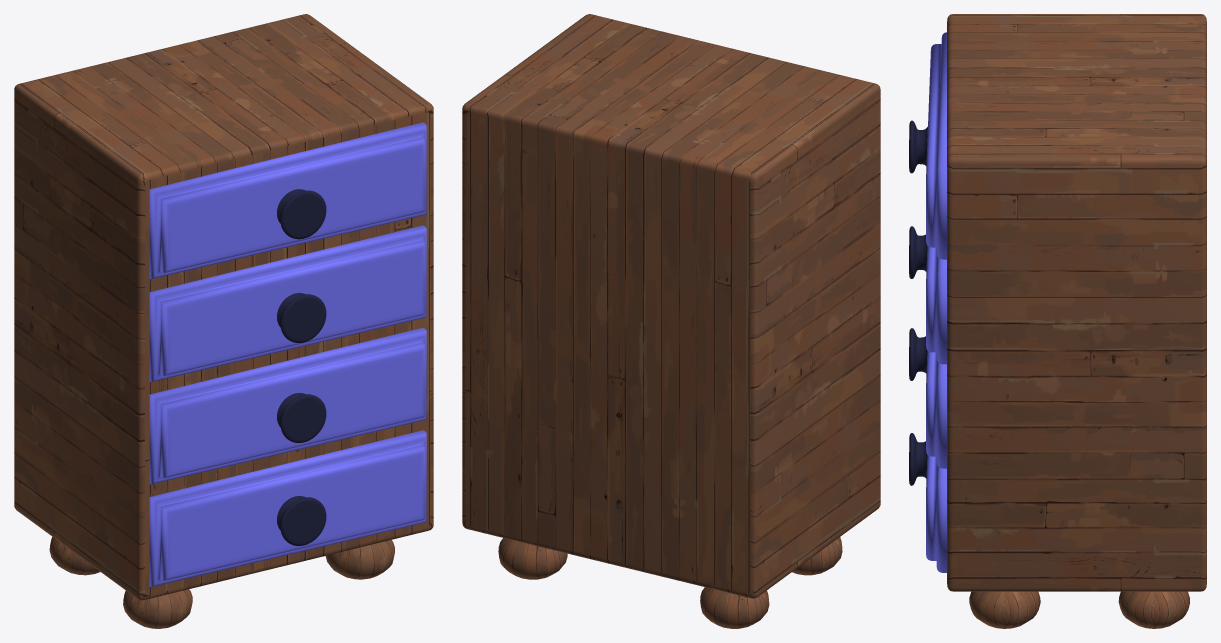
Rendered from gabinete 2.fbx.
3 renders of one model, left to right at view 1: azimuth 30°, elevation 25°; view 2: azimuth 150°, elevation 25°; view 3: azimuth 270°, elevation 25°, orthographic. The views are drawn at different scales.
Visible parts, largest first — view 1: gabinete 2; view 2: gabinete 2; view 3: gabinete 2.
Boxes of the visible parts, x1,y1,x2,y2 form: gabinete 2: (14, 14, 433, 628); gabinete 2: (462, 14, 880, 628); gabinete 2: (909, 14, 1206, 628).
Bounding box in the file's own units: 180 × 279 × 154.
Materials: 3 (1 with a texture image).
